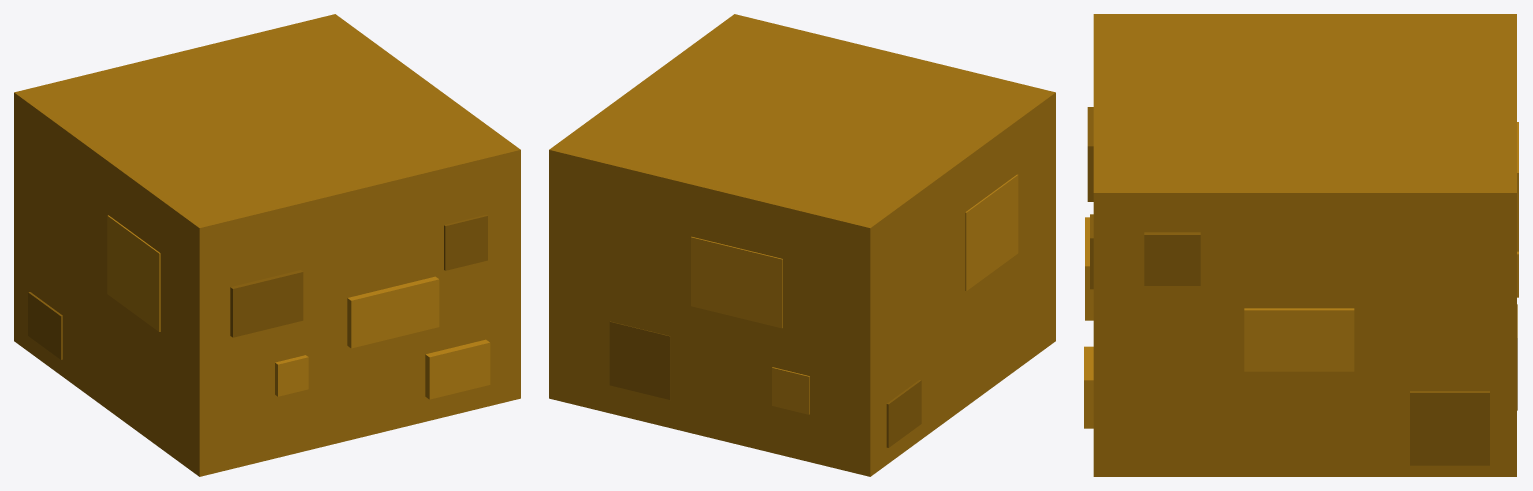
The model's file is dirt.fbx.
The picture shows the model from 3 angles, left to right: view 1: azimuth 30°, elevation 25°; view 2: azimuth 150°, elevation 25°; view 3: azimuth 270°, elevation 25°; orthographic projection. The views are drawn at different scales.
Parts seen in each view (by area): view 1: Cube.032; view 2: Cube.032; view 3: Cube.032.
Part boxes in pixels (x1,y1,x2,y2): Cube.032: (14,14,520,476); Cube.032: (549,14,1055,476); Cube.032: (1084,14,1518,476).
Bounding box in the file's own units: 158 × 114 × 159.
